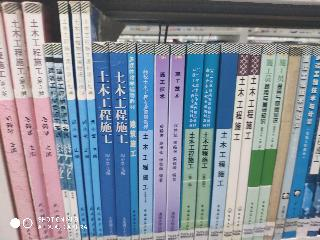book-spine: (3, 1, 53, 240), (23, 1, 70, 240), (0, 9, 39, 240), (262, 46, 302, 240), (239, 44, 278, 240), (251, 45, 290, 240), (273, 46, 312, 240), (282, 46, 320, 239), (59, 1, 89, 240), (206, 43, 238, 240), (231, 45, 261, 240), (44, 43, 73, 240), (176, 43, 205, 240), (72, 2, 96, 240), (53, 44, 80, 240), (194, 44, 221, 240), (223, 45, 250, 240), (81, 2, 103, 240), (93, 42, 116, 239), (110, 42, 130, 240), (151, 45, 170, 239), (166, 45, 184, 239), (138, 44, 154, 239), (128, 43, 139, 239)
